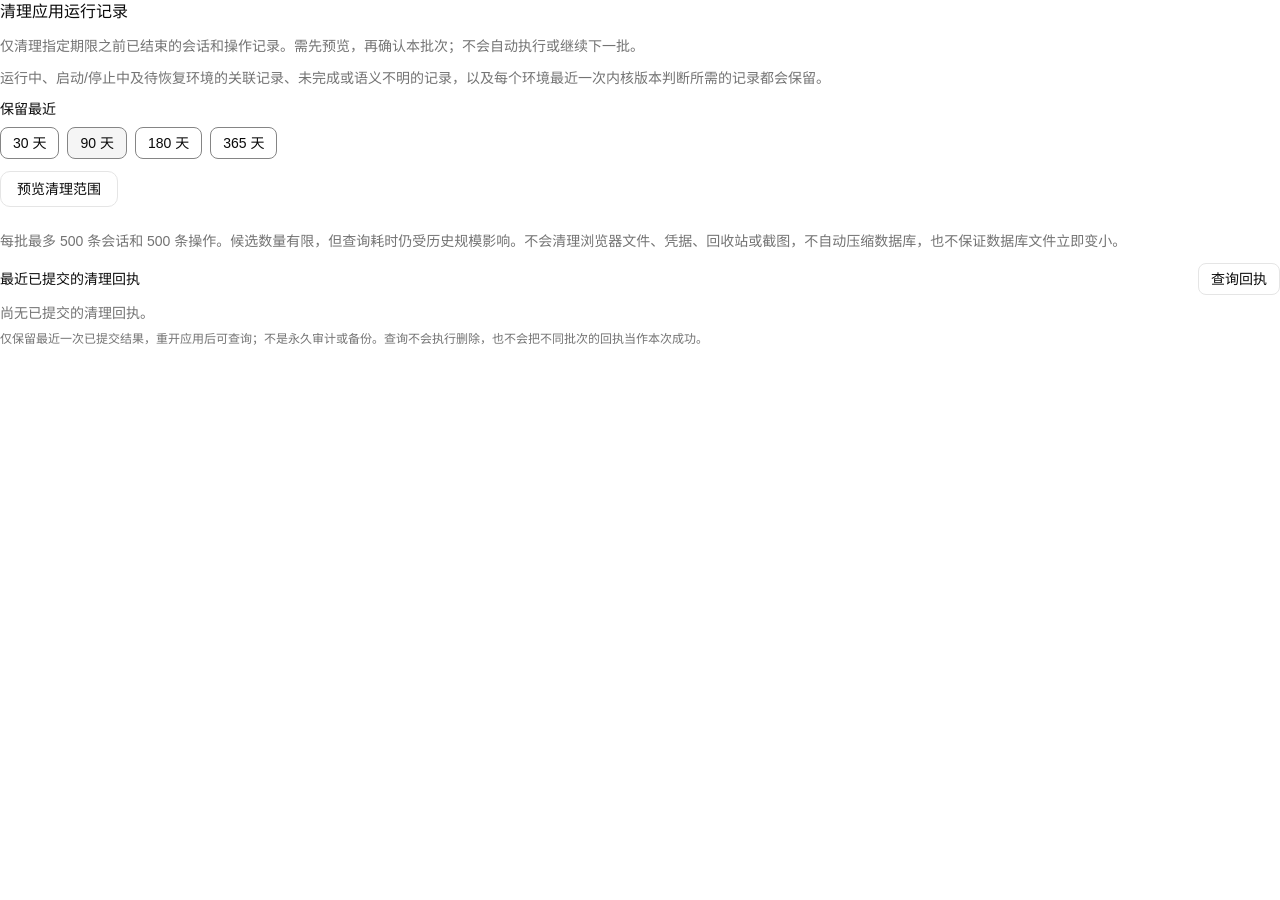
Test case: resolves a lost confirmation response by receipt lookup without a second deletion request
Click the button "预览清理范围" at (59, 189), box [0,171,118,207]
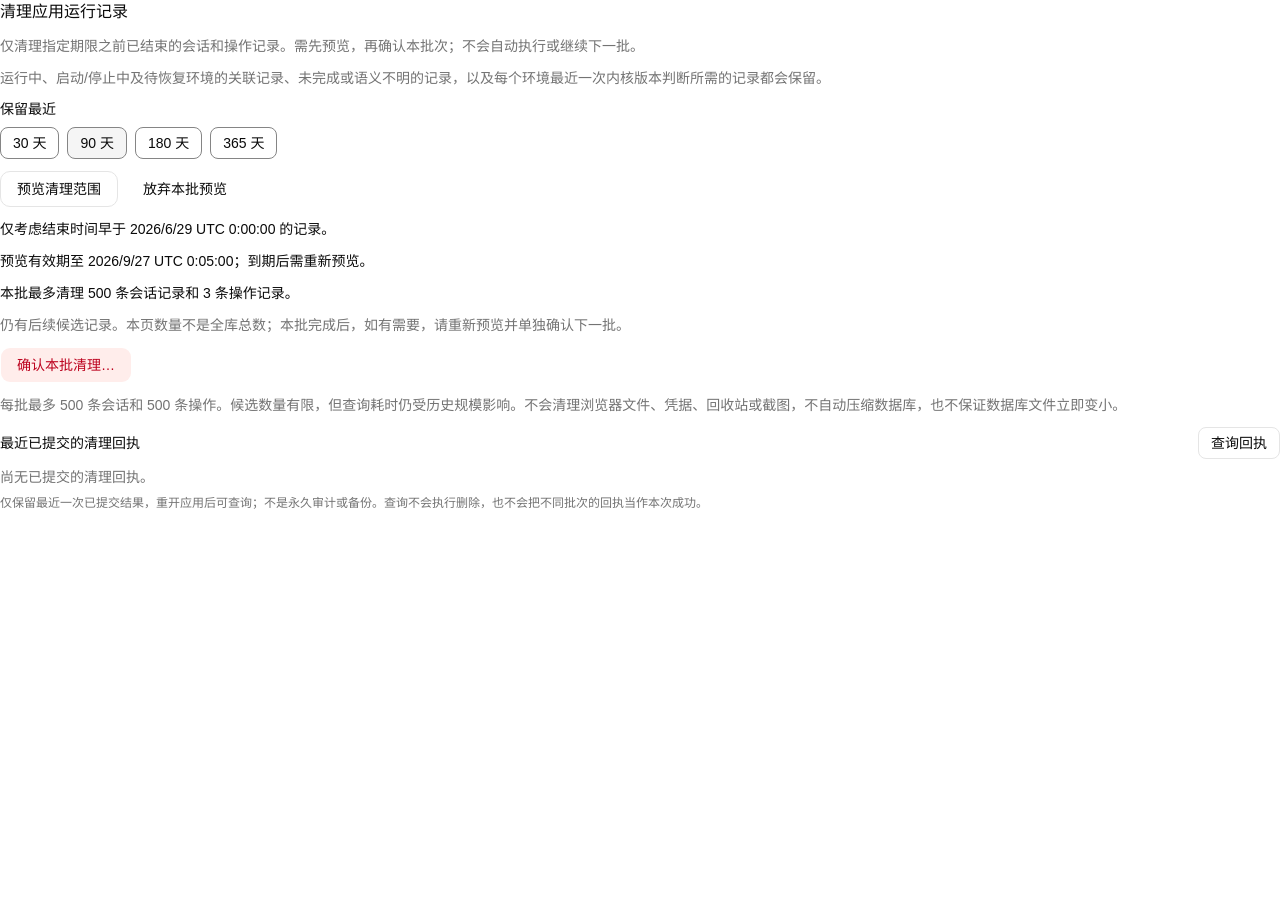
Click the button "确认本批清理…" at (66, 365), box [0,347,132,383]
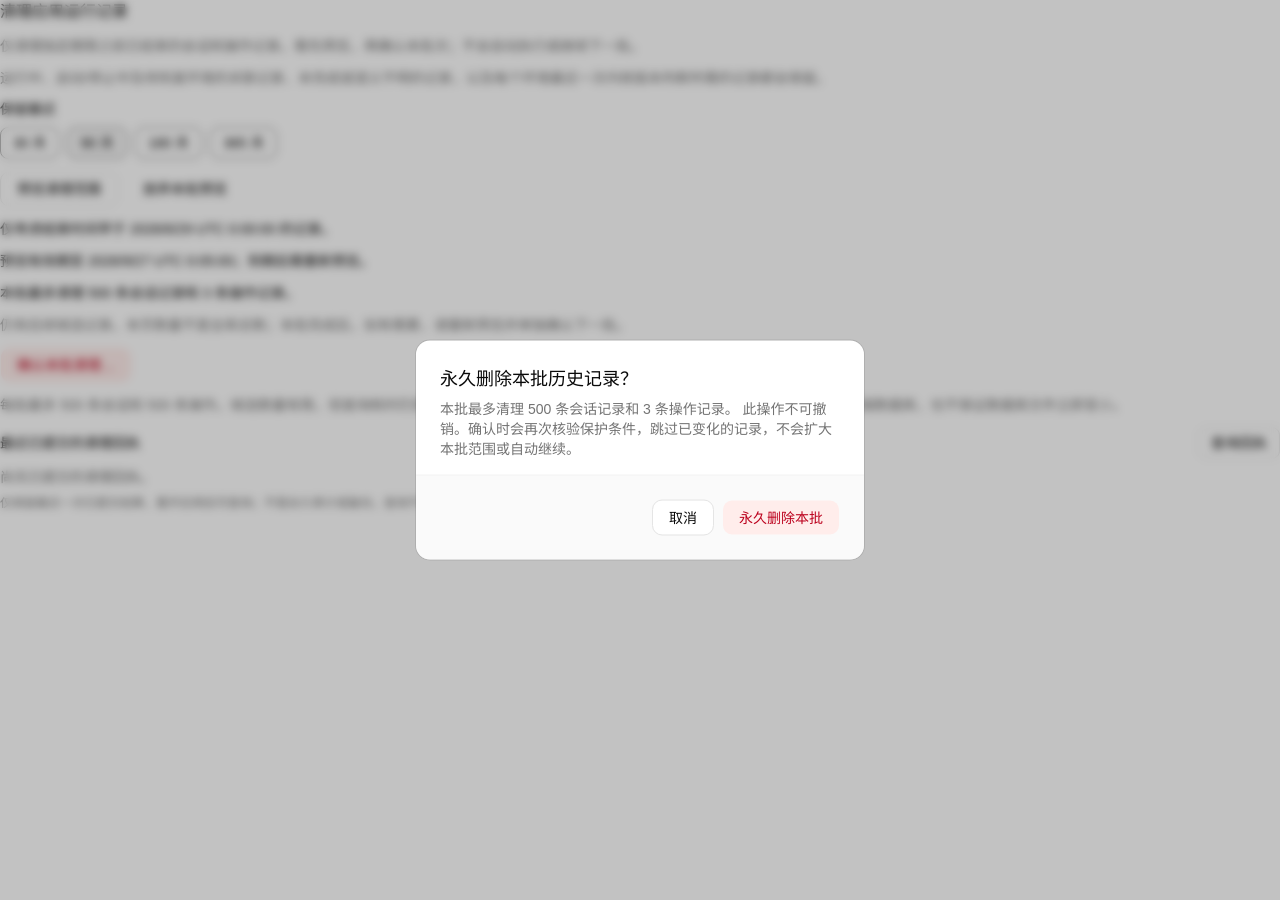
Click the button "永久删除本批" at (781, 518), box [722,500,840,536]
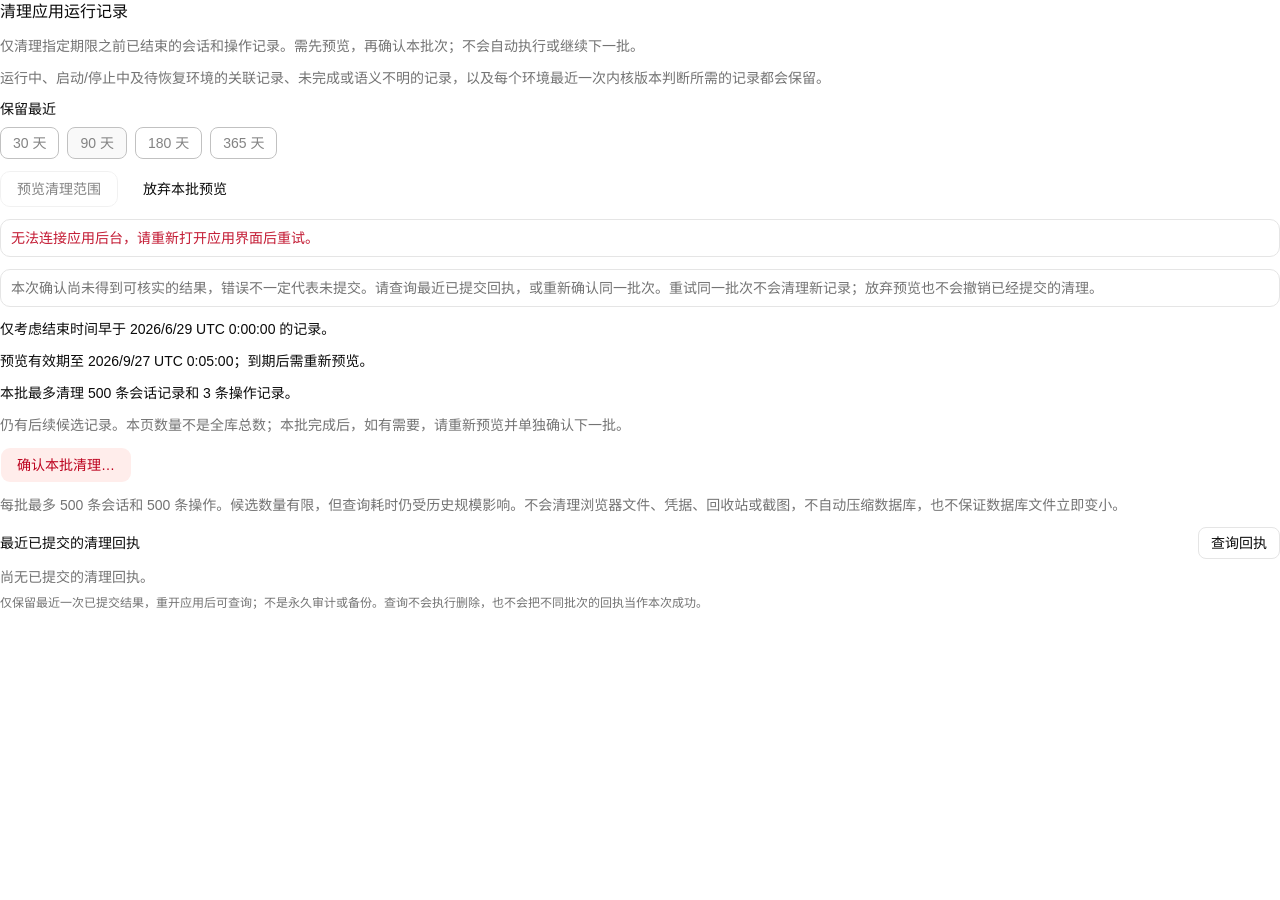
Check: the text "错误不一定代表未提交" is shown, box [11,280,1103,296]
Check: the button "预览清理范围" is disabled, box [0,171,118,207]
Click the button "查询回执" at (1239, 543), box [1198,527,1279,559]
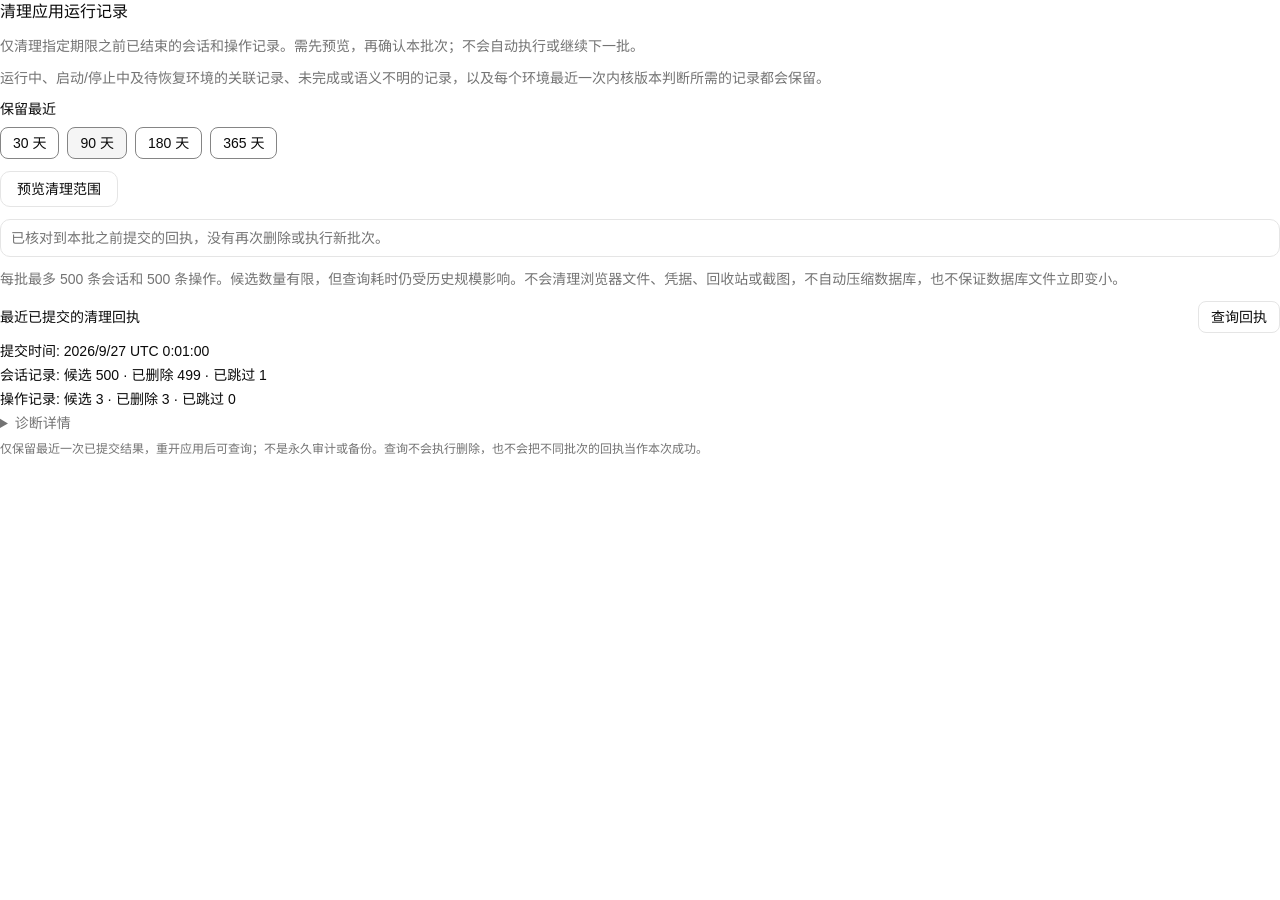
Check: the text "没有再次删除或执行新批次" is shown, box [11,230,389,246]
